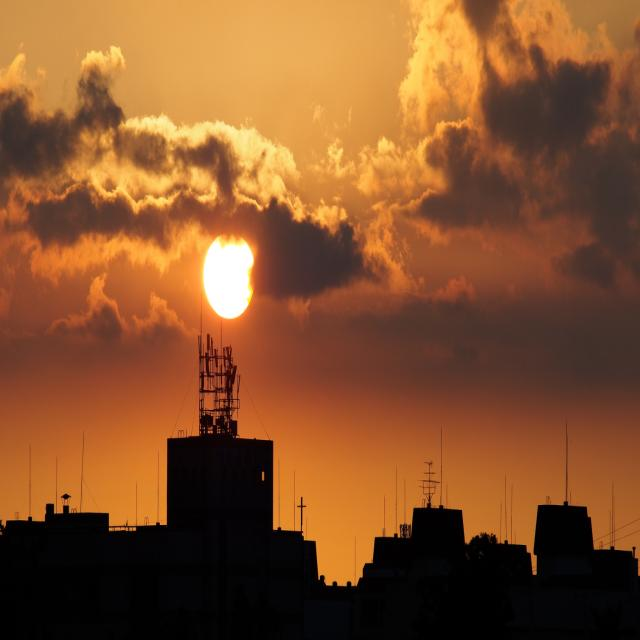no_fire: (2, 37, 640, 412)
